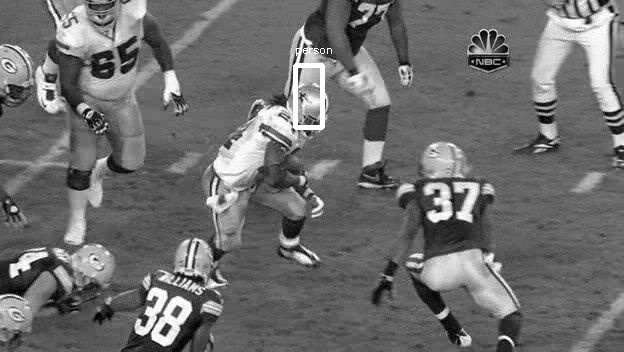person: (291, 86, 327, 137), (290, 86, 326, 137), (292, 86, 328, 137), (291, 85, 327, 136), (291, 87, 327, 138)
target_negative: (381, 127, 481, 319), (229, 243, 542, 303), (469, 171, 551, 308), (145, 303, 316, 317), (615, 337, 623, 345)
